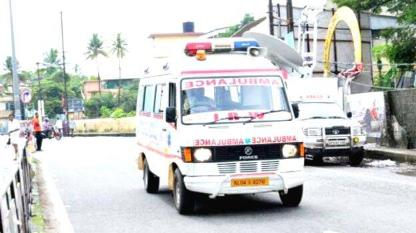priority: (136, 35, 304, 214)
